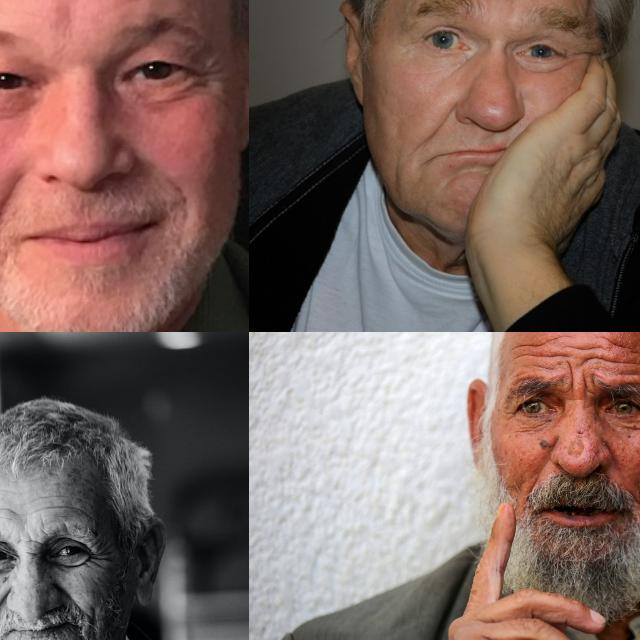crows_feet: (188, 56, 226, 104), (90, 541, 112, 569), (498, 404, 520, 420)
forehead: (34, 499, 86, 518), (608, 350, 640, 378), (571, 341, 607, 363), (609, 335, 640, 356), (518, 350, 572, 362), (512, 336, 540, 352), (542, 332, 568, 347), (0, 503, 19, 520)
frown_line: (564, 364, 578, 398), (578, 371, 596, 397), (24, 534, 40, 556)
gummy_smile: (137, 149, 193, 193), (55, 580, 91, 620), (0, 169, 20, 234), (426, 99, 454, 139), (0, 588, 10, 622)
masseter: (389, 160, 405, 192)
